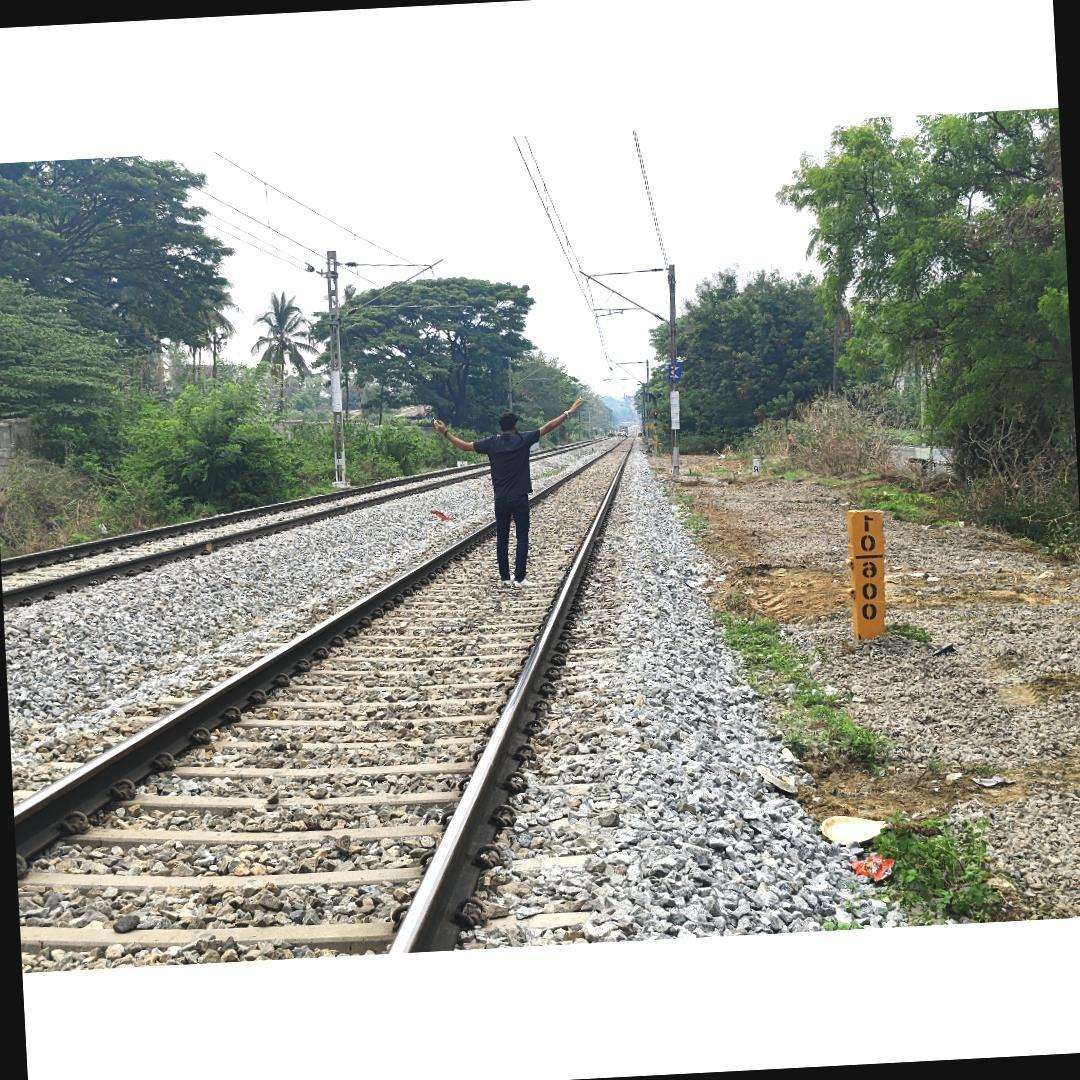standing: (431, 394, 594, 592)
track: (10, 436, 646, 973)
